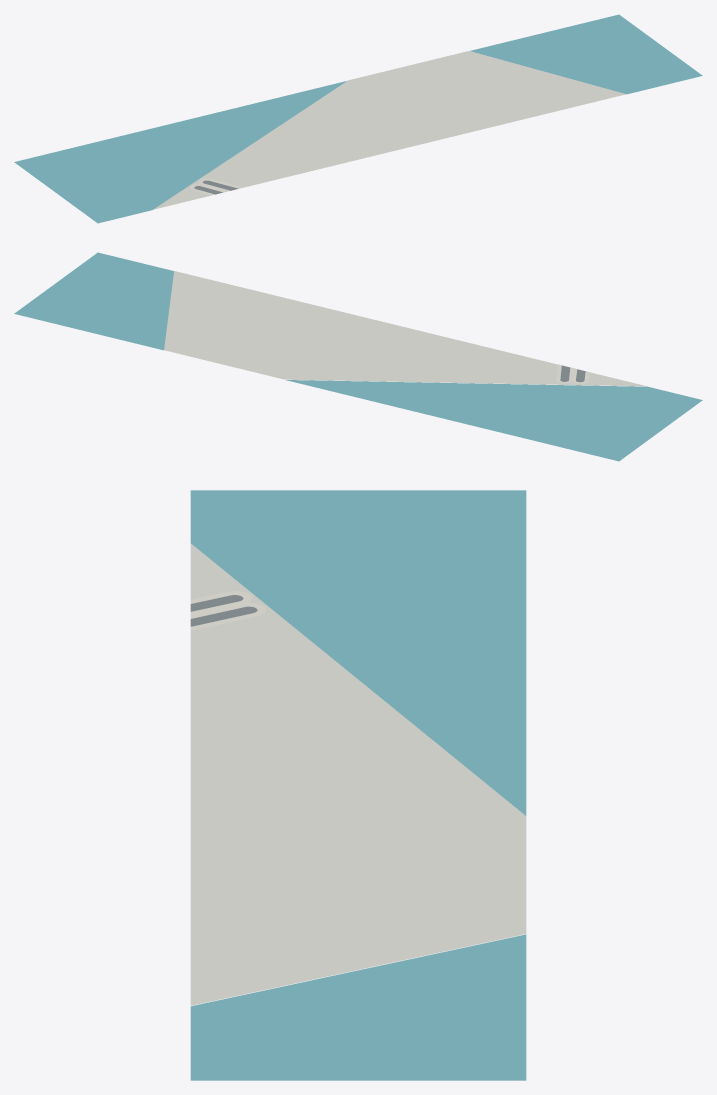
3 views of the same model, one above another, from view 1: azimuth 30°, elevation 25°; view 2: azimuth 150°, elevation 25°; view 3: azimuth 270°, elevation 25° (orthographic). The views are drawn at different scales.
Visible parts, largest first — view 1: city; view 2: city; view 3: city.
Part boxes in pixels (box(x1,y1,x2,y2)): city: box(14, 14, 702, 223); city: box(14, 252, 702, 461); city: box(190, 490, 526, 1080).
Bounding box in the file's own units: 500 × 0.4 × 120.
